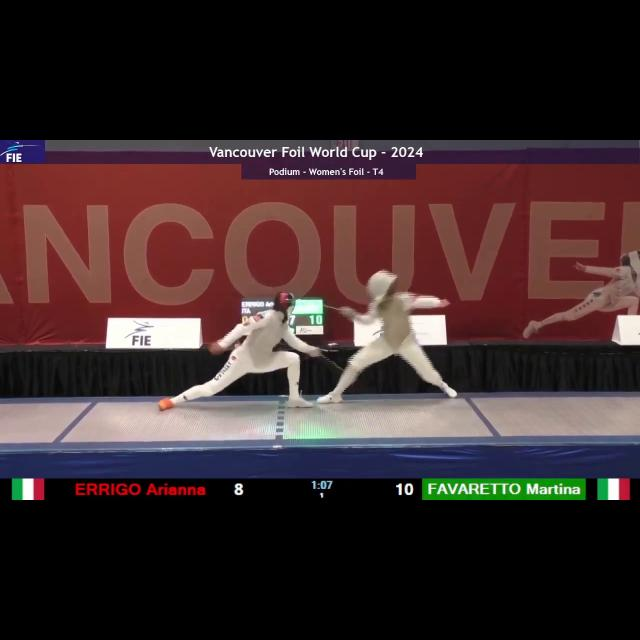blade: (313, 347, 347, 373), (318, 302, 356, 320)
